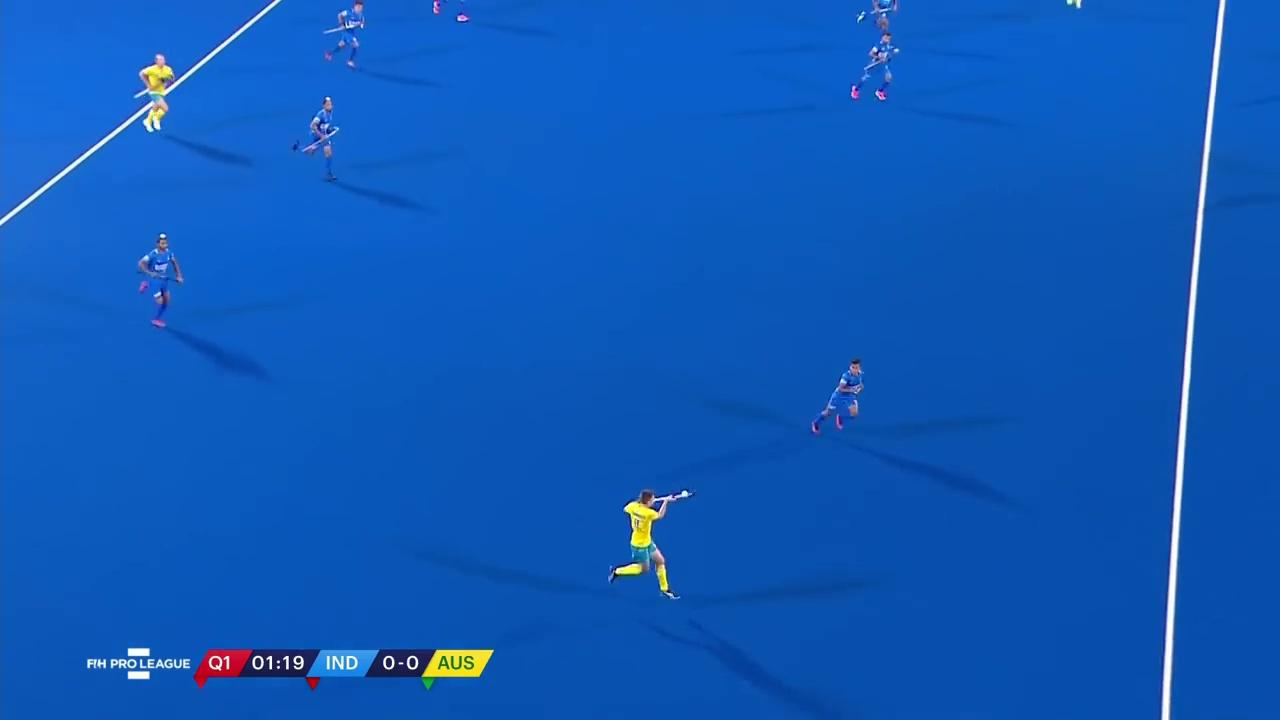ball: (674, 487, 696, 503)
